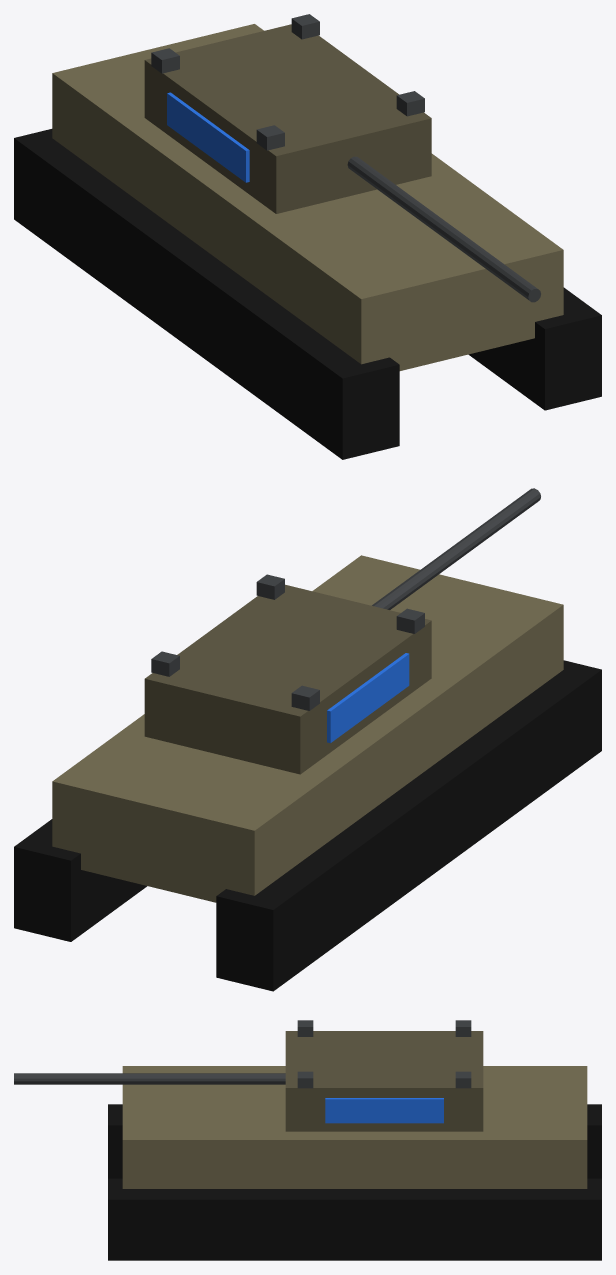
File: us_mbt.glb
3 views of the same model, one above another, from view 1: azimuth 30°, elevation 25°; view 2: azimuth 150°, elevation 25°; view 3: azimuth 270°, elevation 25° (orthographic). The views are drawn at different scales.
Parts seen in each view (by area): view 1: hull, track_l, turret, track_r, barrel, team_panel_l, aps_1, aps_3, aps_0, aps_2; view 2: hull, track_l, turret, track_r, team_panel_l, barrel; view 3: hull, track_r, turret, barrel, team_panel_r, track_l.
Part boxes in pixels (x1,y1,x2,y2): hull: [52, 24, 563, 370]; track_l: [14, 129, 399, 459]; turret: [144, 24, 431, 213]; track_r: [468, 287, 601, 410]; barrel: [347, 156, 540, 302]; team_panel_l: [167, 92, 249, 182]; aps_1: [396, 91, 424, 116]; aps_3: [291, 14, 319, 39]; aps_0: [256, 125, 284, 150]; aps_2: [151, 48, 179, 73]; hull: [52, 555, 563, 902]; track_l: [216, 660, 601, 991]; turret: [144, 584, 431, 774]; track_r: [14, 819, 147, 941]; team_panel_l: [327, 653, 409, 743]; barrel: [372, 488, 540, 609]; hull: [122, 1066, 587, 1188]; track_r: [108, 1178, 601, 1260]; turret: [285, 1031, 483, 1131]; barrel: [14, 1073, 285, 1084]; team_panel_r: [325, 1098, 443, 1123]; track_l: [108, 1104, 601, 1178].
Size of the model in its own units: 3.6 by 2.89 by 9.4.
